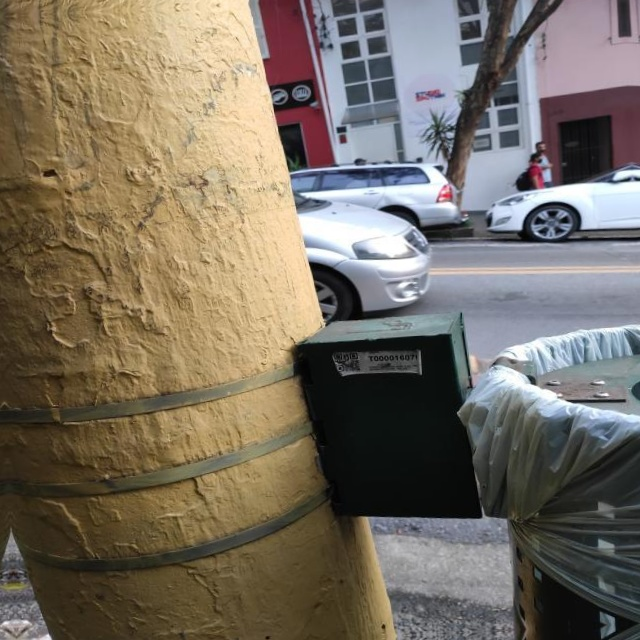qr-code: (334, 353, 360, 372)
